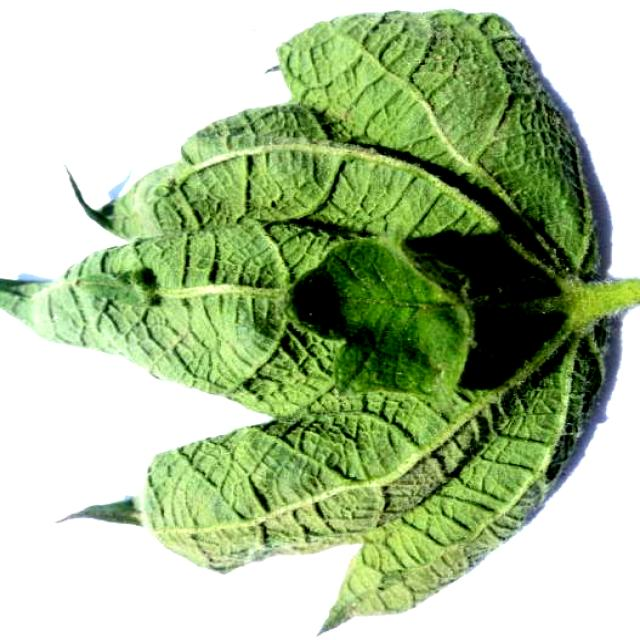Leaf Curl Virus: (192, 63, 582, 529)
